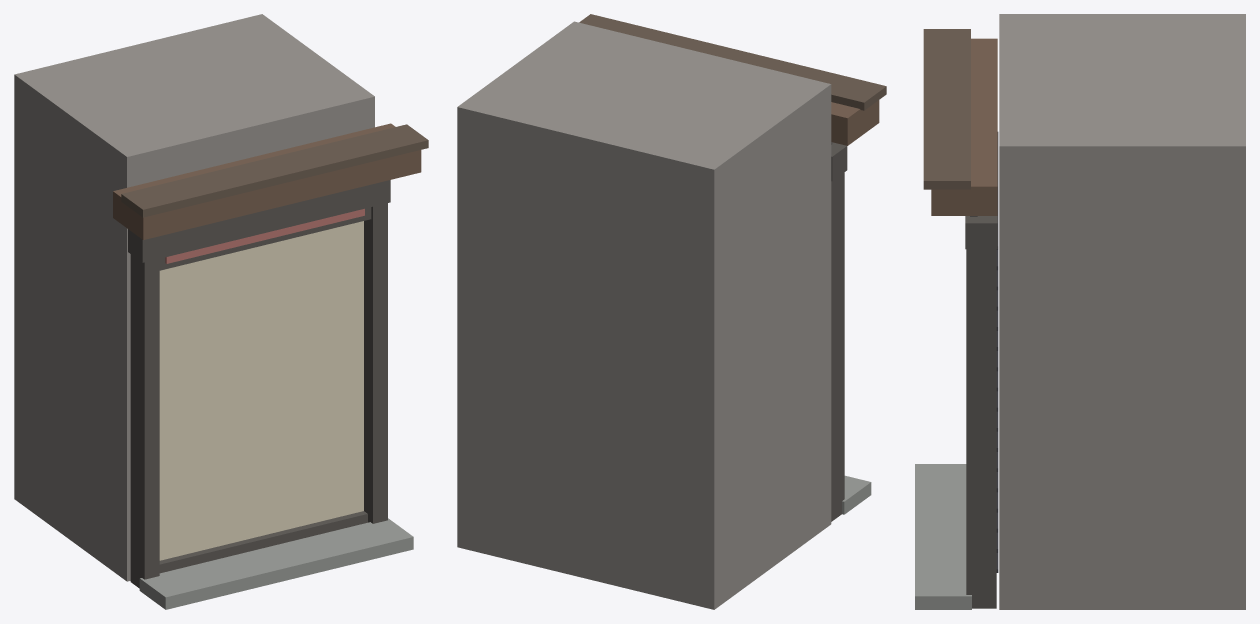
The model's file is prop_shutter_shop_cream.glb.
The picture shows the model from 3 angles, left to right: view 1: azimuth 30°, elevation 25°; view 2: azimuth 150°, elevation 25°; view 3: azimuth 270°, elevation 25°; orthographic projection. The views are drawn at different scales.
Visible parts, largest first — view 1: shutter_shop_cream; view 2: shutter_shop_cream; view 3: shutter_shop_cream.
Boxes of the visible parts, x1,y1,x2,y2 form: shutter_shop_cream: (14,14,428,609); shutter_shop_cream: (457,14,886,609); shutter_shop_cream: (915,14,1245,609).
Bounding box in the file's own units: 3.8 × 5.4 × 3.49.
